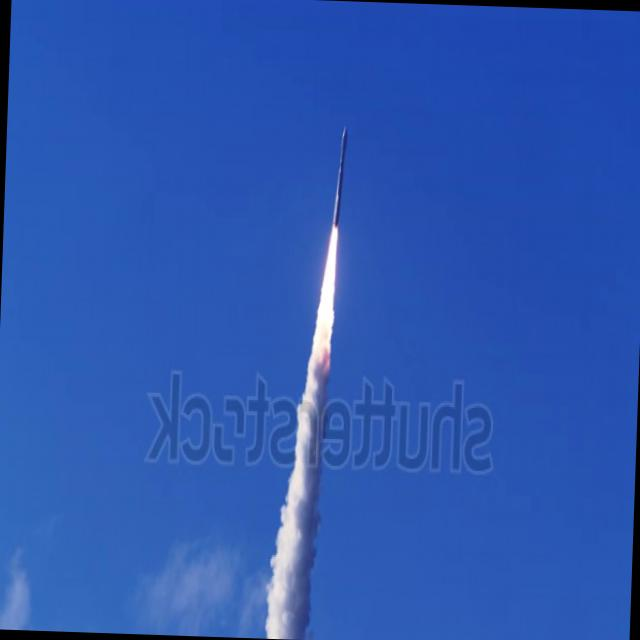rocket: (294, 120, 354, 512)
